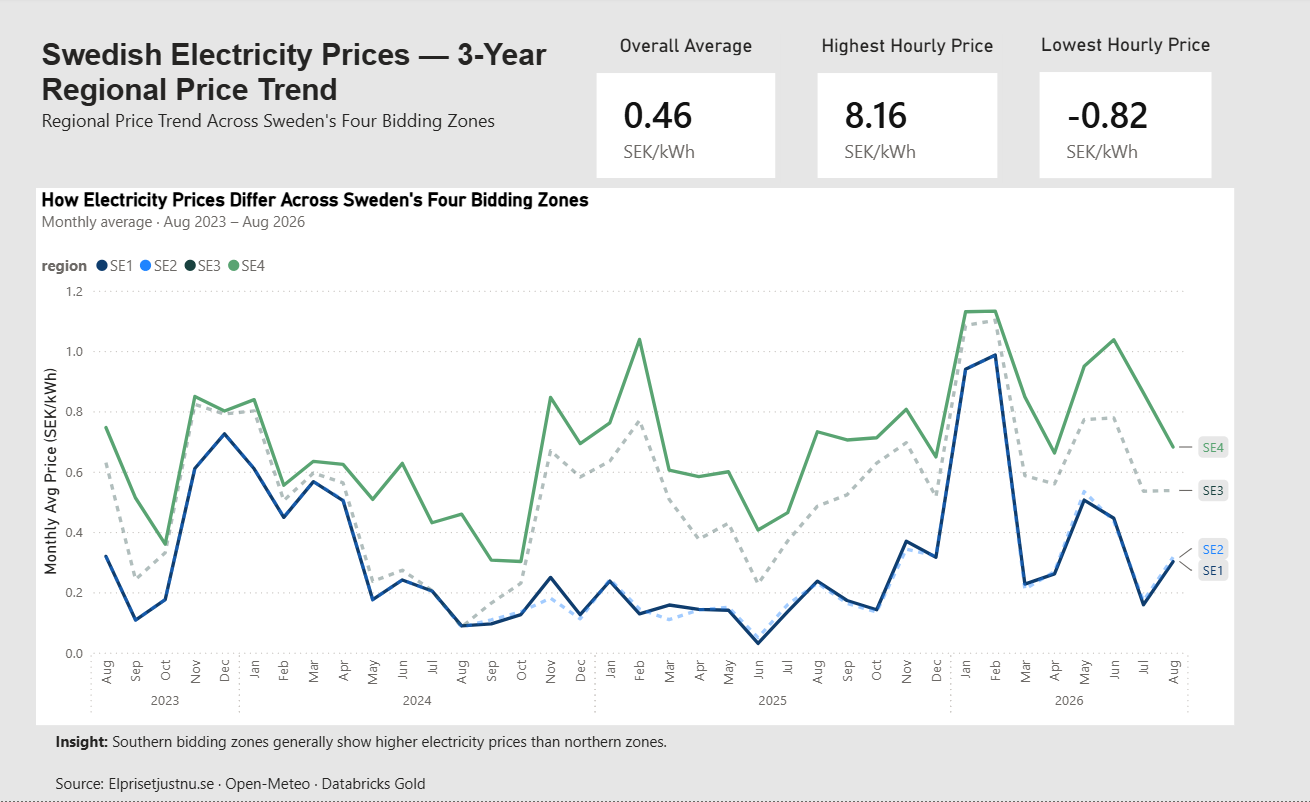

This screenshot's page, from the dashboard's own definition file:
{"tool":"powerbi","page":{"name":"Sweden Electricity Prices","canvas":[1280,720],"ordinal":0},"visuals":[{"type":"textbox","box":[126.4,32.1,472.7,118.7],"z":0},{"type":"cardVisual","title":"Overall Average","fields":{"Data":["Measures list.Average Electricity Price"]},"box":[623.5,33.1,170.2,134.2],"z":1000},{"type":"cardVisual","title":"Highest Hourly Price","fields":{"Data":["Measures list.Maximum Electricity Price"]},"box":[820.9,33.1,171.2,134.2],"z":2000},{"type":"cardVisual","title":"Lowest Hourly Price","fields":{"Data":["Measures list.Minimum Electricity Price"]},"box":[1020.3,32.1,164.4,135.2],"z":3000},{"type":"lineChart","title":"How Electricity Prices Differ Across Sweden''s Four Bidding Zones","fields":{"Category":["DimDate.Year","DimDate.Month"],"Series":["electricity_weather.region"],"Y":["Measures list.Average Electricity Price"]},"box":[126.4,171.2,1072.8,481.5],"z":4000},{"type":"textbox","box":[139.1,652.6,1045.6,67.1],"z":5000}]}

Visuals, with their boxes on the page's 1280x720 design canvas (x1, y1, x2, y2). These are canvas units, not pixel positions in the 1310x802 screenshot, which may show the page scaled, cropped or inside an application window:
textbox: 126, 32, 599, 151
"Overall Average" cardVisual: 624, 33, 794, 167
"Highest Hourly Price" cardVisual: 821, 33, 992, 167
"Lowest Hourly Price" cardVisual: 1020, 32, 1185, 167
"How Electricity Prices Differ Across Sweden''s Four Bidding Zones" lineChart: 126, 171, 1199, 653
textbox: 139, 653, 1185, 720
